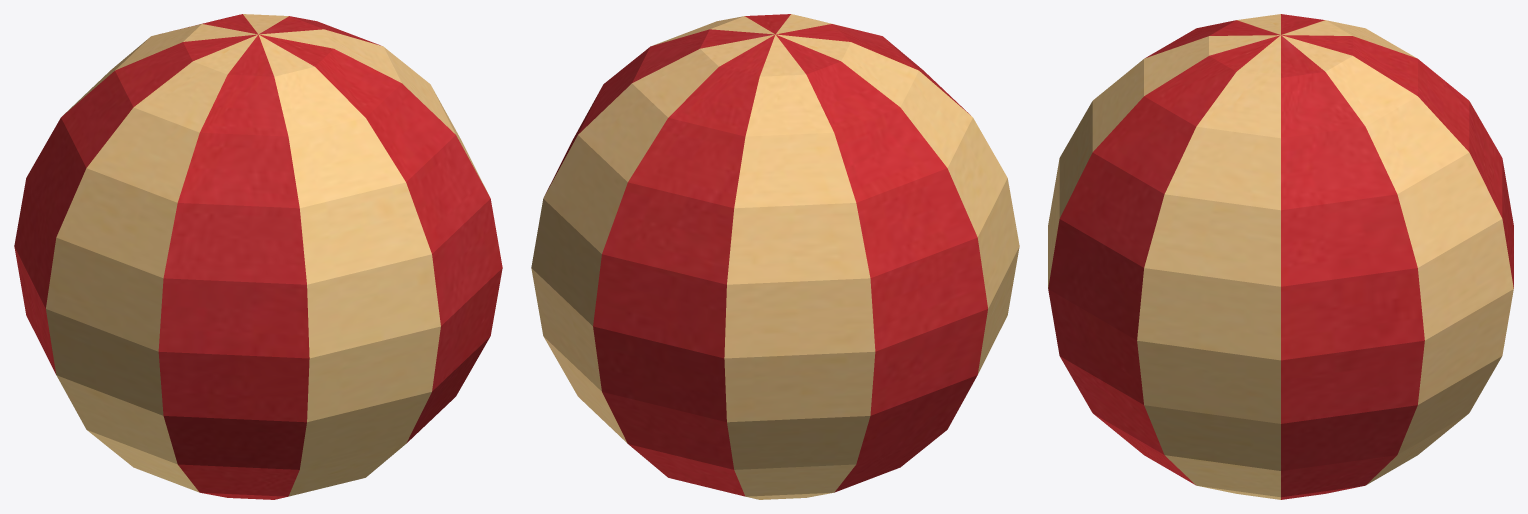
File: pelota.obj
The picture shows the model from 3 angles, left to right: view 1: azimuth 30°, elevation 25°; view 2: azimuth 150°, elevation 25°; view 3: azimuth 270°, elevation 25°; orthographic projection.
Parts seen in each view (by area): view 1: pSphere1; view 2: pSphere1; view 3: pSphere1.
Boxes of the visible parts, x1,y1,x2,y2 form: pSphere1: (14,14,502,499); pSphere1: (531,14,1019,499); pSphere1: (1048,14,1513,499).
Size of the model in its own units: 100 by 100 by 95.11.
Materials: 2 (2 with a texture image).
